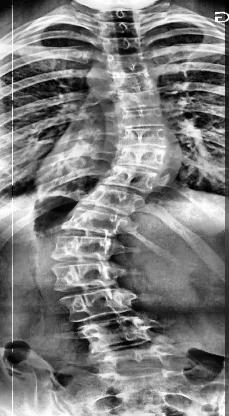Vertebrae: (88, 342, 180, 380), (77, 313, 158, 351), (57, 285, 136, 321), (49, 234, 123, 268), (49, 260, 121, 292), (59, 206, 127, 238), (78, 184, 144, 214), (112, 145, 170, 173), (101, 166, 157, 194), (118, 124, 174, 150), (112, 86, 166, 110), (118, 105, 172, 129), (100, 51, 154, 74), (104, 70, 158, 92), (96, 18, 148, 40), (98, 35, 148, 55), (95, 7, 147, 23)
